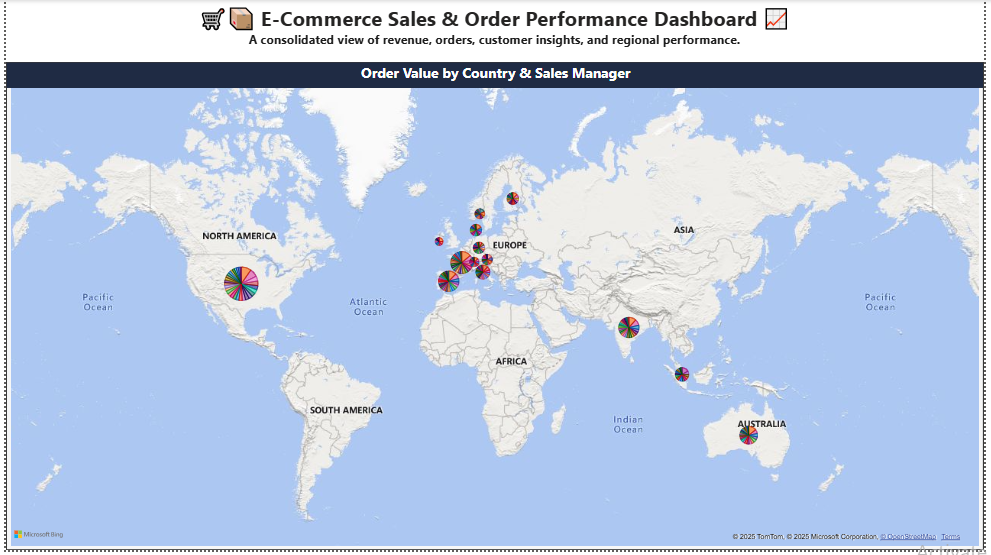

Layout of this report page (visuals, bound fields, positions):
{"tool":"powerbi","page":{"name":"Sales in each Country","canvas":[1280,720],"ordinal":3},"visuals":[{"type":"map","title":"Order Value by Country & Sales Manager","fields":{"Category":["Orders.Customer Country"],"Series":["Orders.Sales Manager"],"Size":["Orders.Order Value"]},"box":[0,80.6,1280.2,639.4],"z":0},{"type":"textbox","box":[0,0,1278.7,69.1],"z":1000}]}

Visuals, with their boxes in screenshot pixels (x1, y1, x2, y2), scaled from the page's 1280x720 canvas onto the 991x555 screenshot:
"Order Value by Country & Sales Manager" map: 0, 62, 990, 554
textbox: 0, 0, 990, 53
